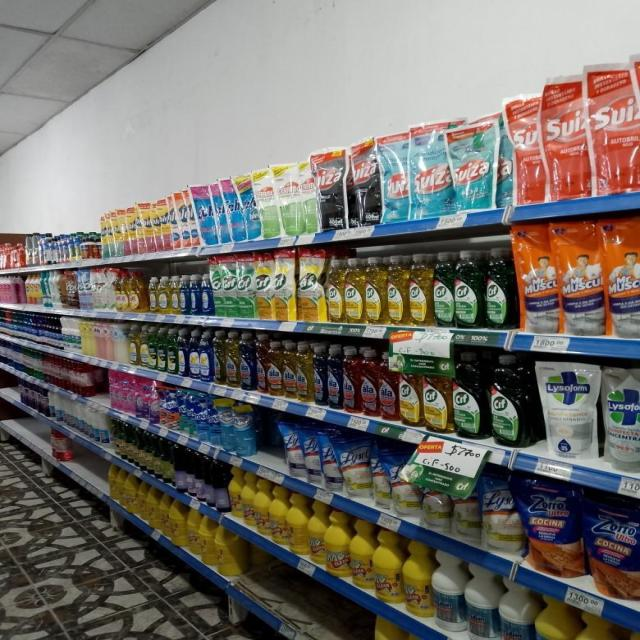ala_conc_amarillo: (296, 342, 312, 403), (282, 340, 296, 399), (226, 331, 240, 388), (268, 341, 282, 396), (214, 330, 225, 384)
ala_conc_azul: (327, 344, 342, 410), (240, 332, 255, 391), (313, 343, 326, 407)
ala_conc_rojo: (379, 350, 398, 422), (360, 347, 378, 418), (343, 345, 359, 414), (256, 334, 266, 394)
cif_conc_bot_amarilla: (423, 351, 452, 434), (408, 253, 432, 327), (399, 352, 422, 427), (387, 254, 408, 326), (365, 256, 386, 324), (345, 256, 364, 324), (326, 255, 344, 323)
cif_conc_botella_verde: (490, 353, 533, 448), (453, 350, 487, 440), (484, 247, 515, 331), (454, 249, 483, 329), (433, 252, 453, 328)
cif_conc_sachet_amarillo: (298, 248, 324, 322), (274, 249, 296, 321), (255, 252, 272, 320)
cif_conc_sachet_verde: (238, 253, 255, 319), (224, 255, 238, 318), (213, 256, 226, 318)
magistral_con_amarillo: (158, 276, 169, 314), (148, 276, 158, 313), (170, 275, 178, 315)
